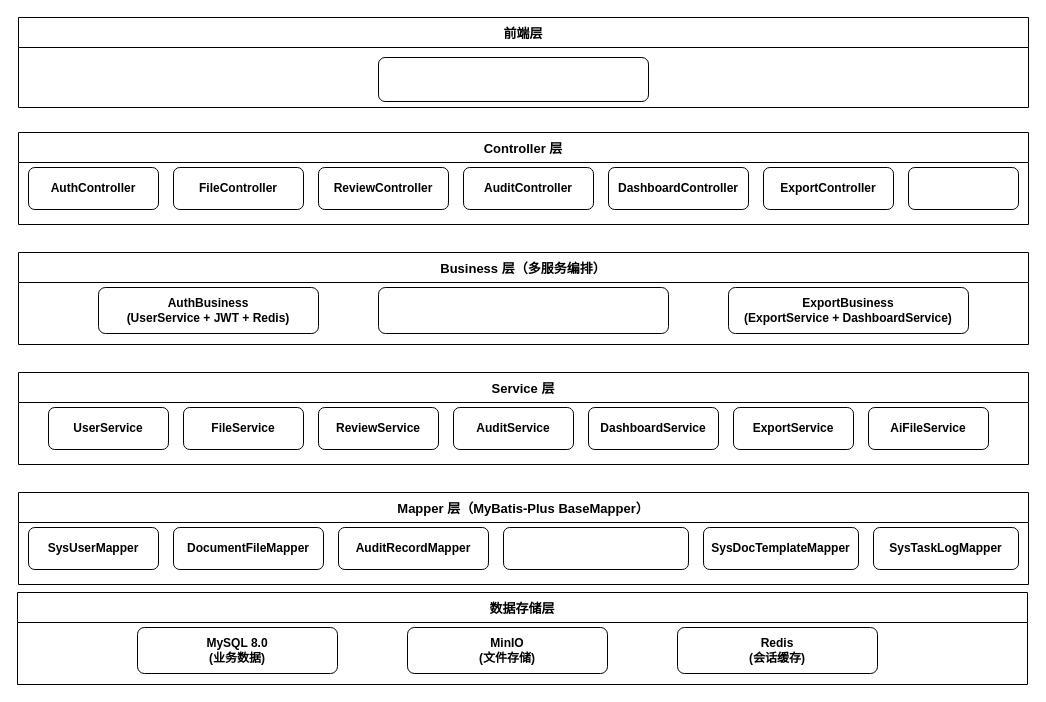
Image size: 1046x702. Some labels were removed from this diagram. Here are the shapes that lost their labels. From the top down, the centre of each, then its label:
(513,79): 浏览器 / Web 前端 (Vue.js / React)
(963,188): AiProcessController
(523,310): DocumentProcessBusiness (AiFileService + AIClient + Persistence)
(595,548): DocumentExtractMainMapper
